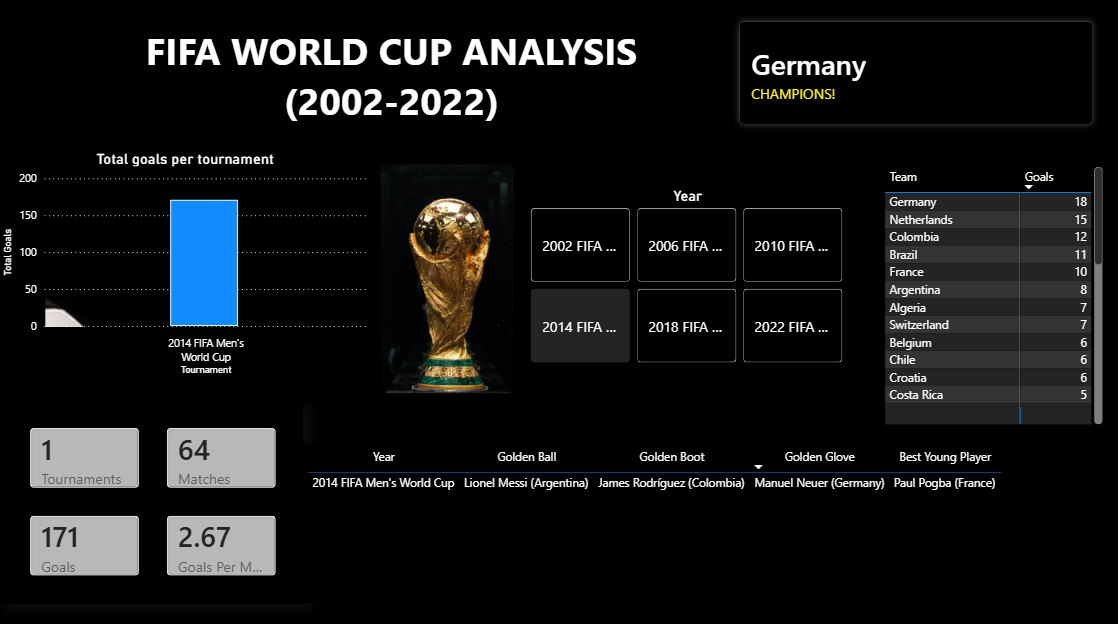

This screenshot's page, from the dashboard's own definition file:
{"tool":"powerbi","page":{"name":"Page 1","canvas":[1280,720],"ordinal":0},"visuals":[{"type":"image","box":[346.4,191,329.3,260.8],"z":0},{"type":"textbox","box":[280.8,37.1,651.4,162.5],"z":1000},{"type":"cardVisual","fields":{"Data":["goals_cleaned.Total Tournaments","goals_cleaned.Total Matches","awards_cleaned.Total Goals","goals_cleaned.Goals Per Match"]},"box":[4.3,460.4,342.1,230.9],"z":2000},{"type":"clusteredColumnChart","title":"Total goals per tournament","fields":{"Category":["goals_cleaned.tournament_name"],"Y":["CountNonNull(goals_cleaned.goal_id)"]},"box":[0,173.9,424.8,262.3],"z":3000},{"type":"advancedSlicerVisual","title":"Year","fields":{"Values":["Tournaments.tournament_name"]},"box":[601.5,216.7,367.8,206.7],"z":4000},{"type":"pivotTable","title":"Total goals per team","fields":{"Rows":["goals_cleaned.team_name"],"Values":["CountNonNull(goals_cleaned.goal_id)"]},"box":[1004.9,188.2,259.4,305],"z":5000},{"type":"tableEx","fields":{"Values":["Tournaments.tournament_name","awards_cleaned.Golden Ball","awards_cleaned.Golden Boot","awards_cleaned.Golden Glove","awards_cleaned.Best Young Player"]},"box":[346.4,508.9,915.1,182.4],"z":5005},{"type":"cardVisual","fields":{"Data":["matches_cleaned.Championss"]},"box":[969.3,0,272.2,173.9],"z":5006}]}

Visuals, with their boxes in screenshot pixels (x1, y1, x2, y2), scaled from the page's 1280x720 canvas onto the 1118x624 screenshot:
image: [303,166,590,392]
textbox: [245,32,814,173]
cardVisual - goals_cleaned.Total Tournaments x goals_cleaned.Total Matches: [4,399,303,599]
"Total goals per tournament" clusteredColumnChart: [0,151,371,378]
"Year" advancedSlicerVisual: [525,188,847,367]
"Total goals per team" pivotTable: [878,163,1104,427]
tableEx - Tournaments.tournament_name x awards_cleaned.Golden Ball: [303,441,1102,599]
cardVisual - matches_cleaned.Championss: [847,0,1084,151]
